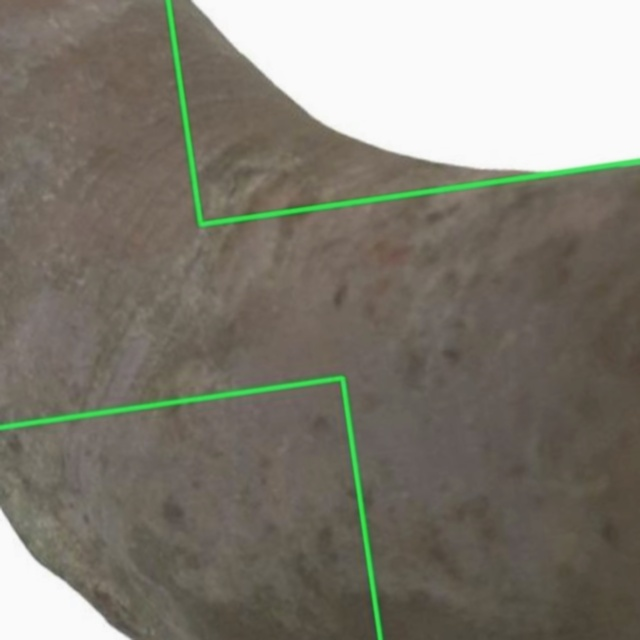Eczema: (168, 0, 639, 224), (0, 377, 380, 639)
